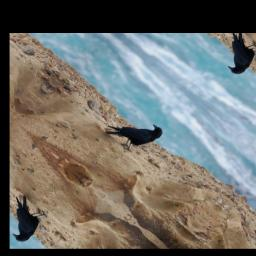Crow: (101, 104, 168, 158)
